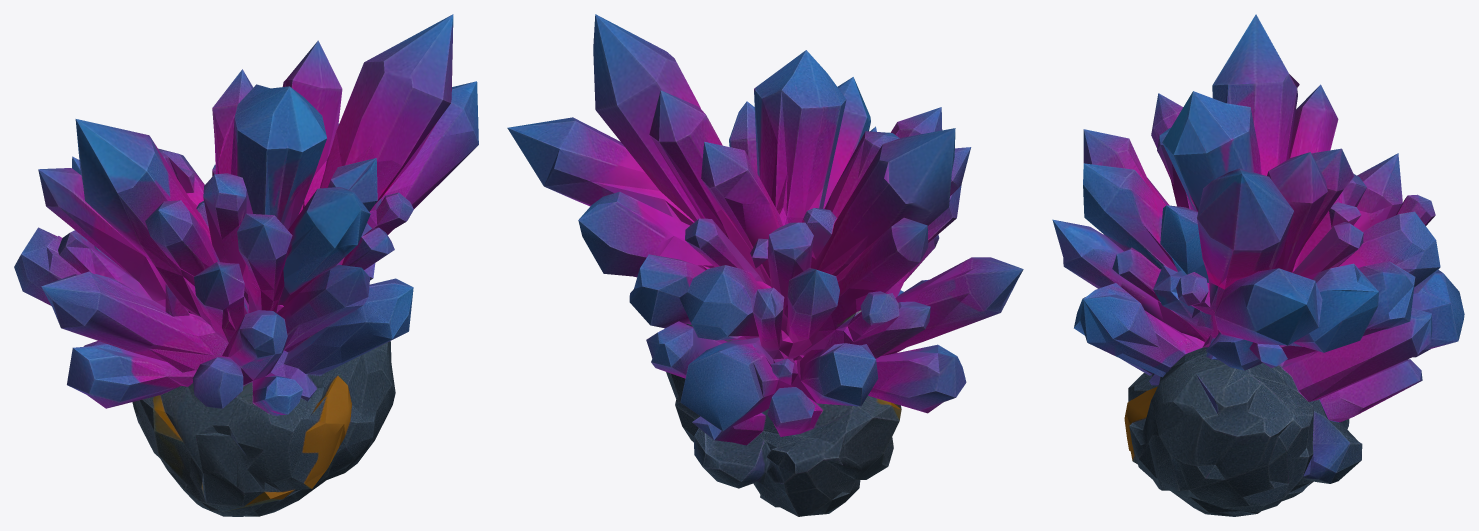
The model's file is crystal-cluster.glb.
3 renders of one model, left to right at view 1: azimuth 30°, elevation 25°; view 2: azimuth 150°, elevation 25°; view 3: azimuth 270°, elevation 25°, orthographic.
Size of the model in its own units: 1.9 by 1.68 by 1.43.
Materials: 1 (1 with a texture image).
